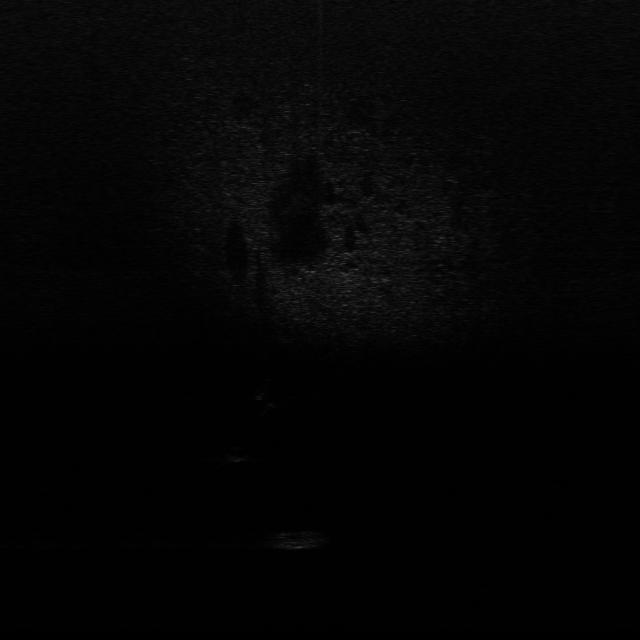ball: (223, 444, 252, 464)
circle cage: (262, 528, 332, 553)
human body: (249, 376, 277, 420)
